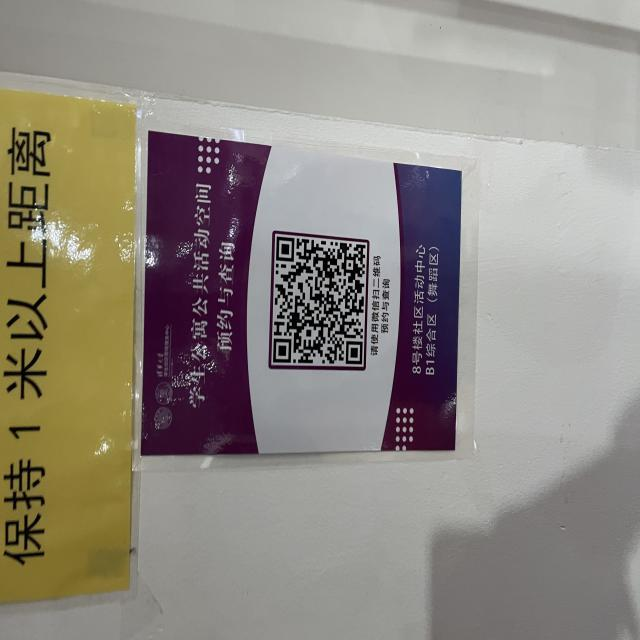qr_code: (272, 235, 367, 366)
